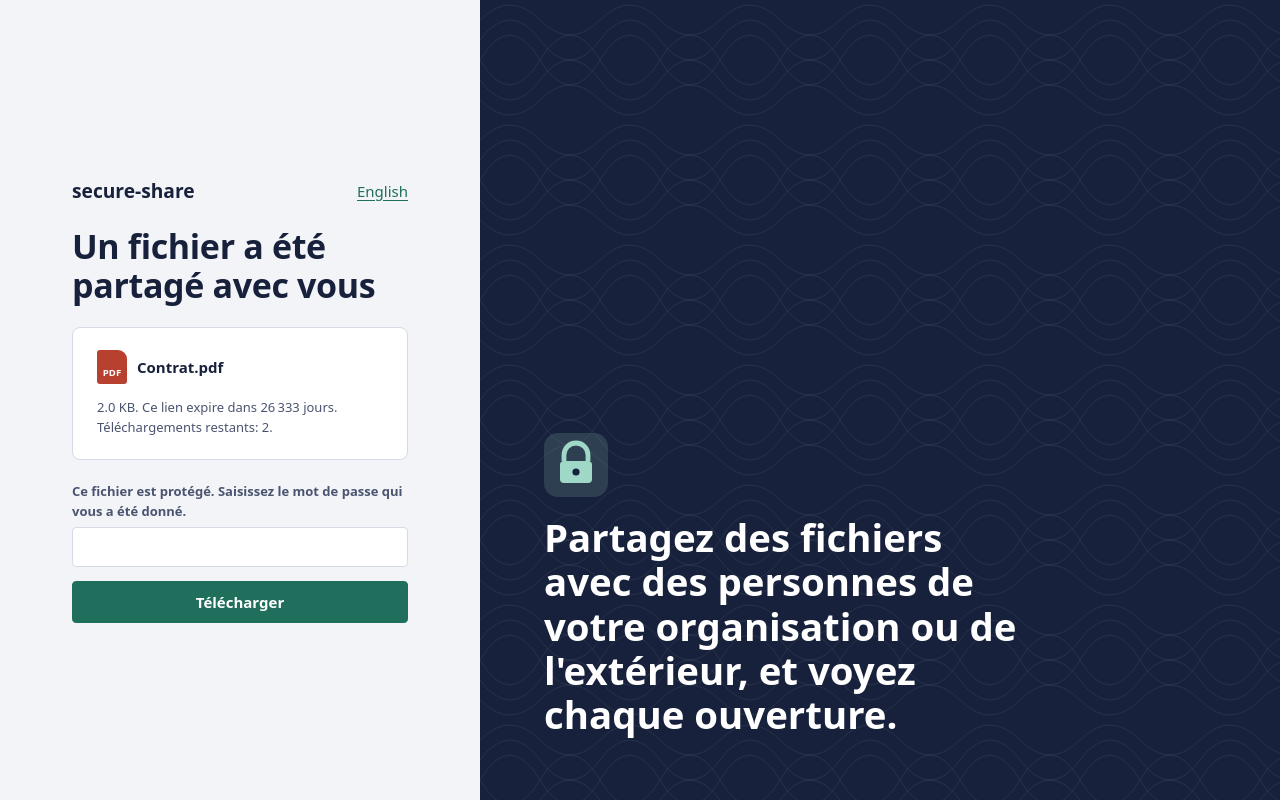
Test: public link page › asks for the password and reports a wrong one
The image size is (1280, 800).
expect the text "Contrat.pdf" is shown: met, box [137,357,223,377]
expect the text "Téléchargements restants: 2" is shown: met, box [97,418,273,436]
Type "guess" into the password field labelled "Ce fichier est protégé". click: (240, 547)
box: [72,528,408,567]
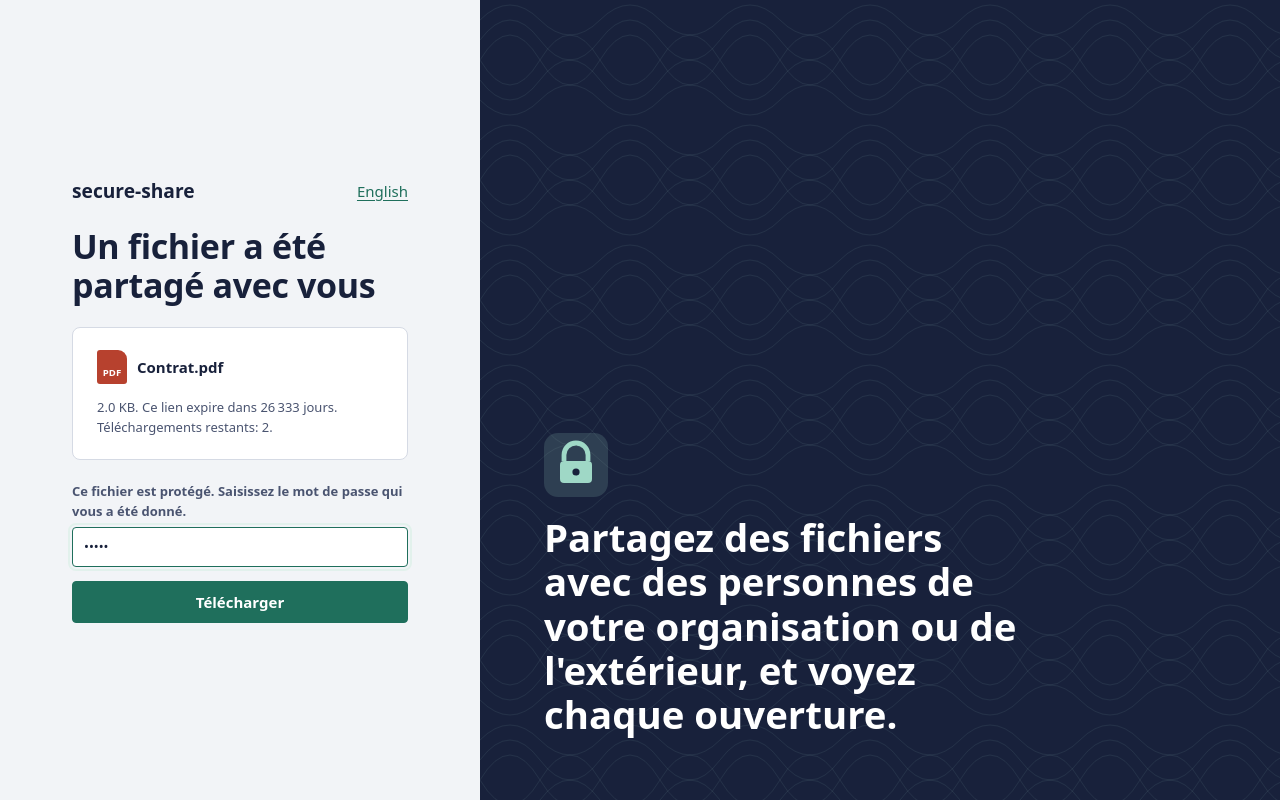
Click the button "Télécharger". click: (240, 602)
box: [72,581,408,624]
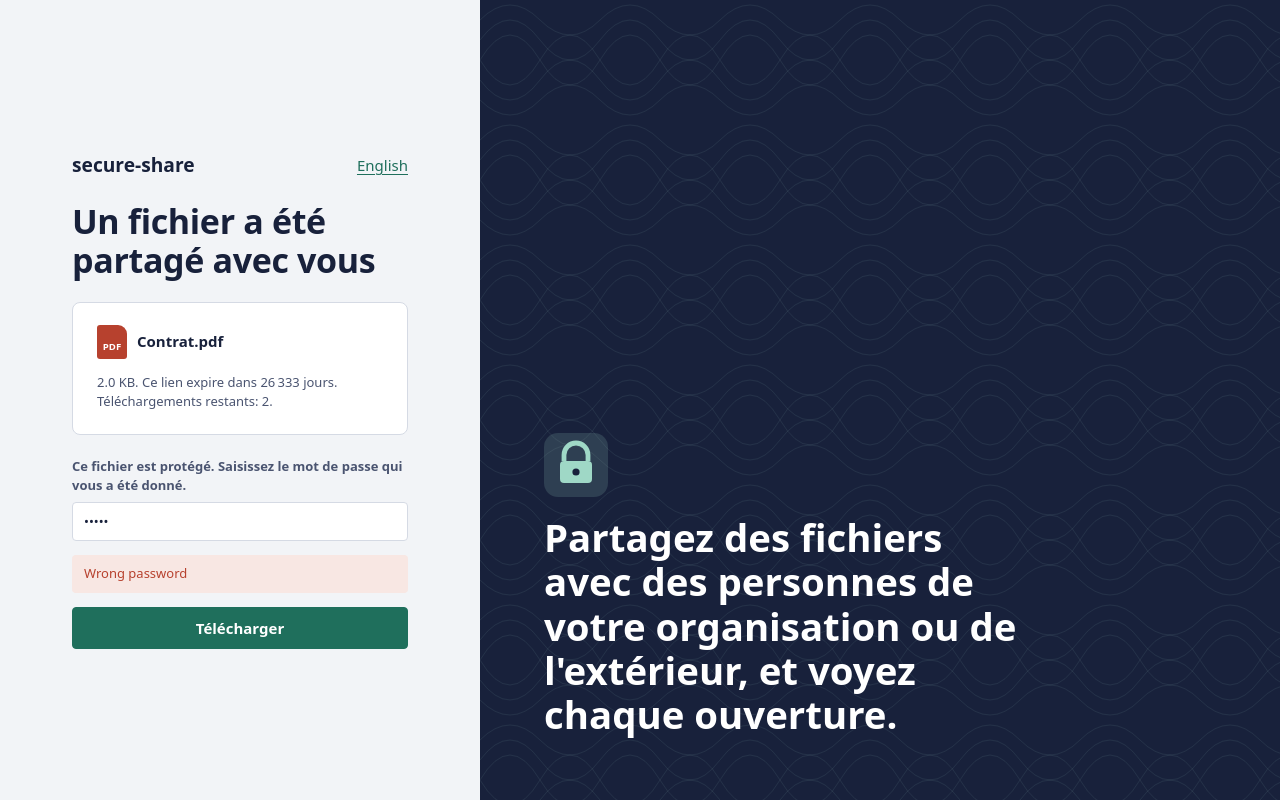
expect the message reads "Wrong password": met, box [84,564,187,582]
